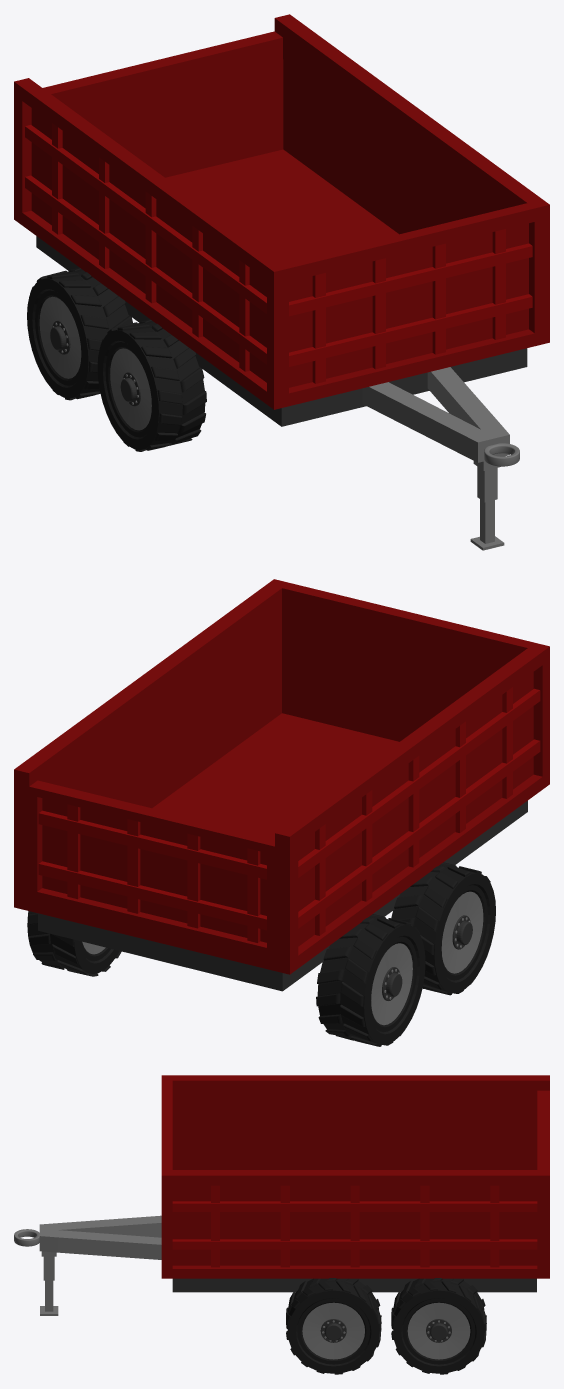
Rendered from Remorquelow.fbx.
3 views of the same model, one above another, from view 1: azimuth 30°, elevation 25°; view 2: azimuth 150°, elevation 25°; view 3: azimuth 270°, elevation 25° (orthographic). The views are drawn at different scales.
Visible parts, largest first — view 1: Cube.001; view 2: Cube.001; view 3: Cube.001.
Boxes of the visible parts, box(x1,y1,x2,y2) form: Cube.001: box(14, 14, 549, 550); Cube.001: box(14, 579, 549, 1046); Cube.001: box(14, 1075, 549, 1374).
Bounding box in the file's own units: 209 × 148 × 381.
